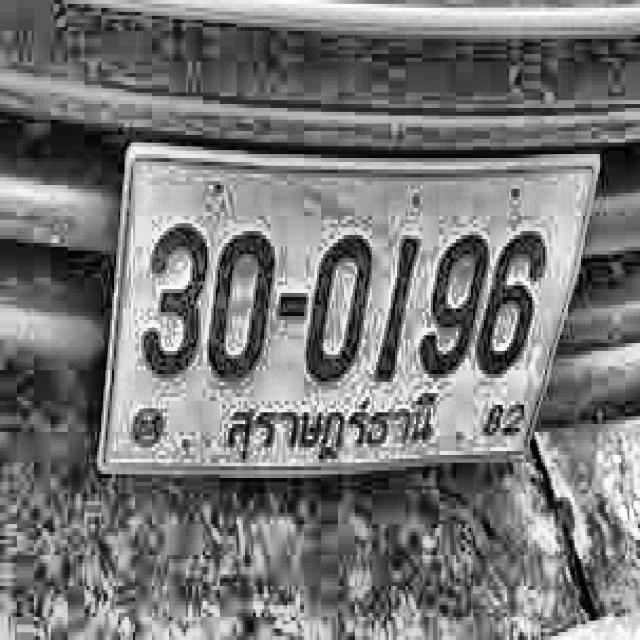license-plate: (82, 109, 608, 548)
